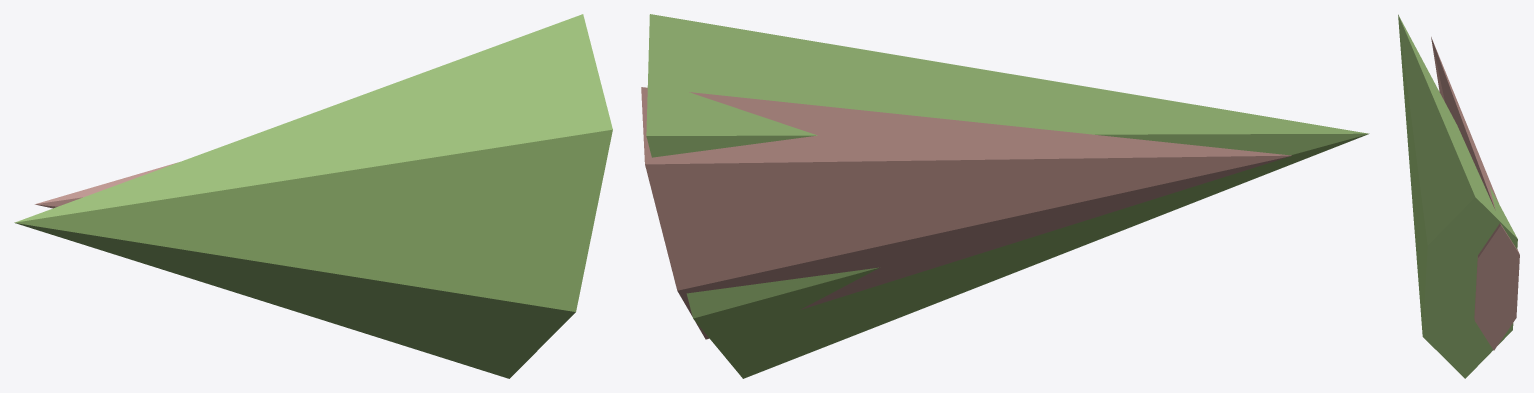
The model's file is ear_l.glb.
3 views of the same model, side by side, from view 1: azimuth 30°, elevation 25°; view 2: azimuth 150°, elevation 25°; view 3: azimuth 270°, elevation 25° (orthographic). The views are drawn at different scales.
Parts seen in each view (by area): view 1: ear_l2; view 2: ear_l2; view 3: ear_l2.
Part boxes in pixels (x1=…): ear_l2: x1=14, y1=14, x2=612, y2=378; ear_l2: x1=641, y1=14, x2=1369, y2=378; ear_l2: x1=1398, y1=14, x2=1519, y2=378.
Size of the model in its own units: 0.4919 by 0.2518 by 0.135.
